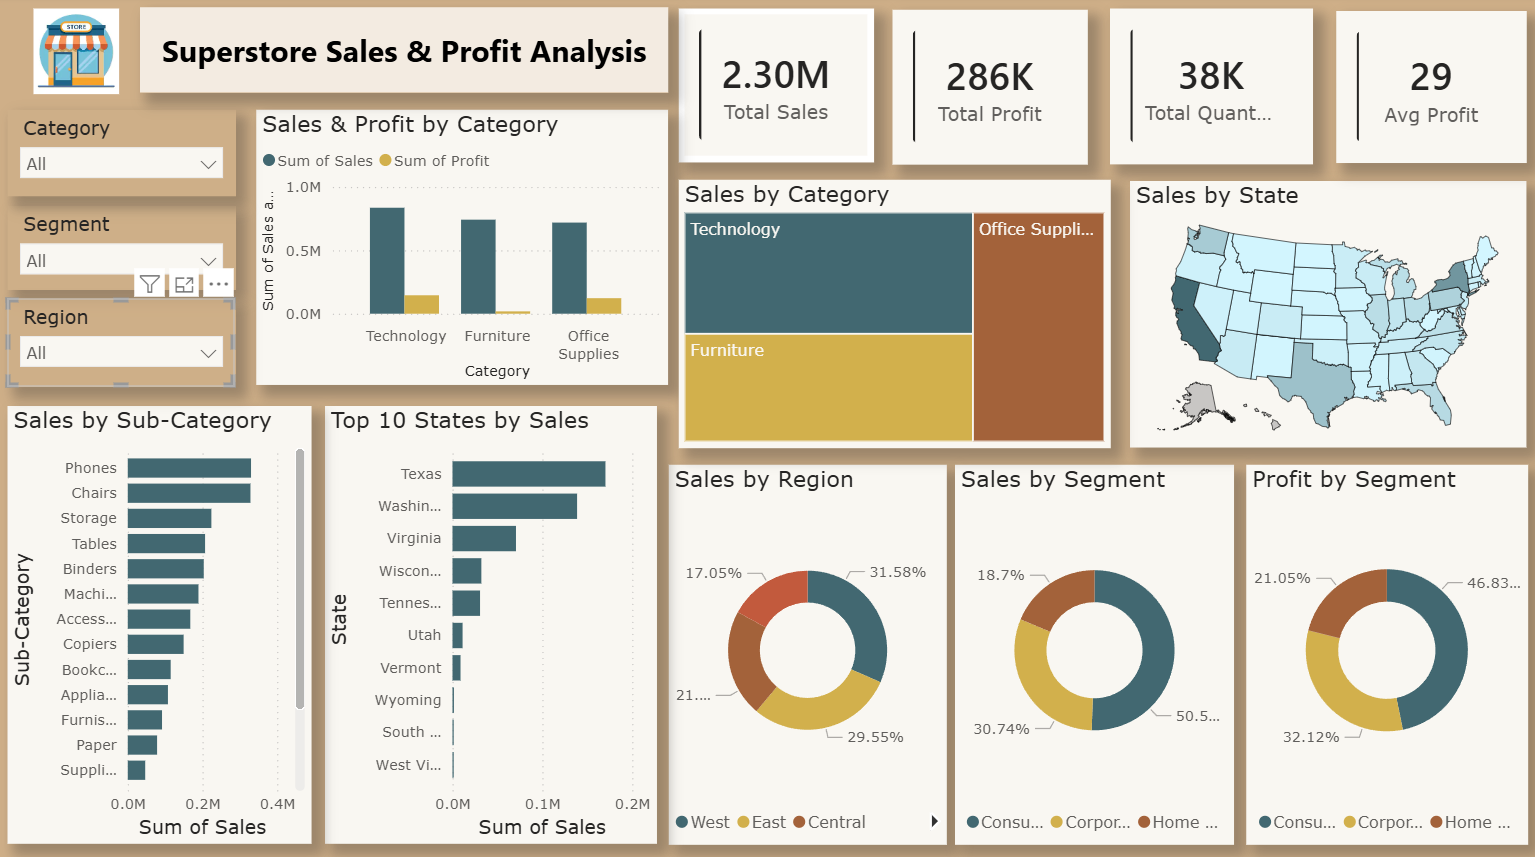

What the dashboard file says about the page in this screenshot:
{"tool":"powerbi","page":{"name":"Dashboard","canvas":[1280,720],"ordinal":0},"visuals":[{"type":"cardVisual","fields":{"Data":["Sum(SampleSuperstore.Sales)"]},"box":[564,10.6,162.6,127.8],"z":0},{"type":"cardVisual","fields":{"Data":["Sum(SampleSuperstore.Profit)"]},"box":[742.4,11.6,162.6,128.8],"z":1000},{"type":"cardVisual","fields":{"Data":["Sum(SampleSuperstore.Quantity)"]},"box":[923,10.6,169,129.9],"z":2000},{"type":"lineClusteredColumnComboChart","title":"Sales & Profit by Category","fields":{"Category":["SampleSuperstore.Category"],"Y":["Sum(SampleSuperstore.Sales)","Sum(SampleSuperstore.Profit)"]},"box":[213.3,95,342.2,229.2],"z":3000},{"type":"donutChart","title":"Sales by Region","fields":{"Category":["SampleSuperstore.Region"],"Y":["Sum(SampleSuperstore.Sales)"]},"box":[555.5,389.7,231.3,315.8],"z":4000},{"type":"barChart","title":"Top 10 States by Sales","fields":{"Category":["SampleSuperstore.State"],"Y":["Sum(SampleSuperstore.Sales)"]},"box":[270.4,341.1,275.6,364.4],"z":5000},{"type":"donutChart","title":"Sales by Segment","fields":{"Category":["SampleSuperstore.Segment"],"Y":["Sum(SampleSuperstore.Sales)"]},"box":[794.2,389.7,232.3,315.8],"z":6000},{"type":"clusteredBarChart","title":"Sales by Sub-Category","fields":{"Category":["SampleSuperstore.Sub-Category"],"Y":["Sum(SampleSuperstore.Sales)"]},"box":[6.3,341.1,252.4,364.4],"z":7000},{"type":"shapeMap","title":"Sales by State","fields":{"Category":["SampleSuperstore.State"],"Value":["Sum(SampleSuperstore.Sales)"]},"box":[939.9,154.2,329.5,221.8],"z":8000},{"type":"slicer","fields":{"Values":["SampleSuperstore.Segment"]},"box":[5.8,174.4,189.5,69.8],"z":9000},{"type":"slicer","fields":{"Values":["SampleSuperstore.Region"]},"box":[5.8,251.2,189.5,73.3],"z":10000},{"type":"slicer","fields":{"Values":["SampleSuperstore.Category"]},"box":[5.8,94.2,189.5,72.1],"z":11000},{"type":"shape","box":[116.5,9.6,439.5,70.8],"z":12000},{"type":"treemap","title":"Sales by Category","fields":{"Group":["SampleSuperstore.Category"],"Values":["Sum(SampleSuperstore.Sales)"]},"box":[564,153.1,359.1,222.8],"z":13000},{"type":"cardVisual","fields":{"Data":["SampleSuperstore.Avg Profit"]},"box":[1111,12.7,158.4,126.7],"z":14000},{"type":"image","box":[6.3,10.5,114.6,71.5],"z":15000},{"type":"donutChart","title":"Profit by Segment","fields":{"Category":["SampleSuperstore.Segment"],"Y":["Sum(SampleSuperstore.Profit)"]},"box":[1036.2,390.2,234.1,315.8],"z":16000}]}

Visuals, with their boxes in screenshot pixels (x1, y1, x2, y2), scaled from the page's 1280x720 canvas onto the 1535x857 screenshot:
cardVisual - Sum(SampleSuperstore.Sales): bbox=(676, 13, 871, 165)
cardVisual - Sum(SampleSuperstore.Profit): bbox=(890, 14, 1085, 167)
cardVisual - Sum(SampleSuperstore.Quantity): bbox=(1107, 13, 1310, 167)
"Sales & Profit by Category" lineClusteredColumnComboChart: bbox=(256, 113, 666, 386)
"Sales by Region" donutChart: bbox=(666, 464, 944, 840)
"Top 10 States by Sales" barChart: bbox=(324, 406, 655, 840)
"Sales by Segment" donutChart: bbox=(952, 464, 1231, 840)
"Sales by Sub-Category" clusteredBarChart: bbox=(8, 406, 310, 840)
"Sales by State" shapeMap: bbox=(1127, 184, 1522, 448)
slicer - SampleSuperstore.Segment: bbox=(7, 208, 234, 291)
slicer - SampleSuperstore.Region: bbox=(7, 299, 234, 386)
slicer - SampleSuperstore.Category: bbox=(7, 112, 234, 198)
shape: bbox=(140, 11, 667, 96)
"Sales by Category" treemap: bbox=(676, 182, 1107, 447)
cardVisual - SampleSuperstore.Avg Profit: bbox=(1332, 15, 1522, 166)
image: bbox=(8, 12, 145, 98)
"Profit by Segment" donutChart: bbox=(1243, 464, 1523, 840)
